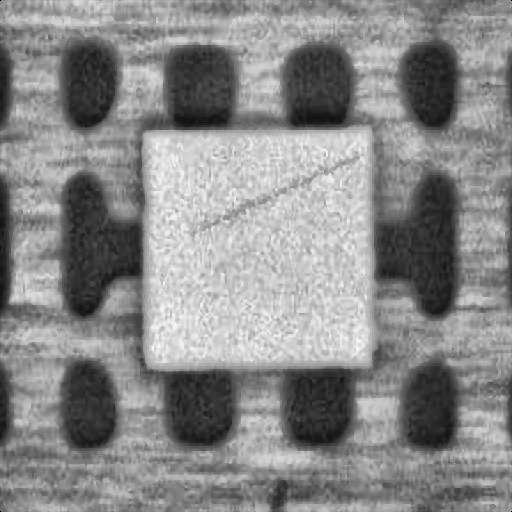DIE_CRACK: (281, 101, 512, 154)
